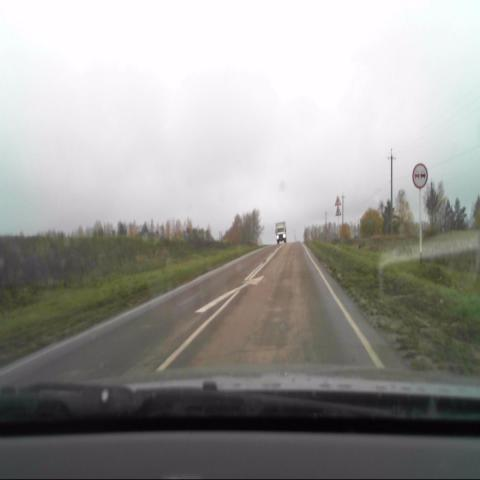1_22: (334, 195, 341, 207)
2_3_3: (334, 206, 341, 217)
3_20: (412, 162, 428, 189)
